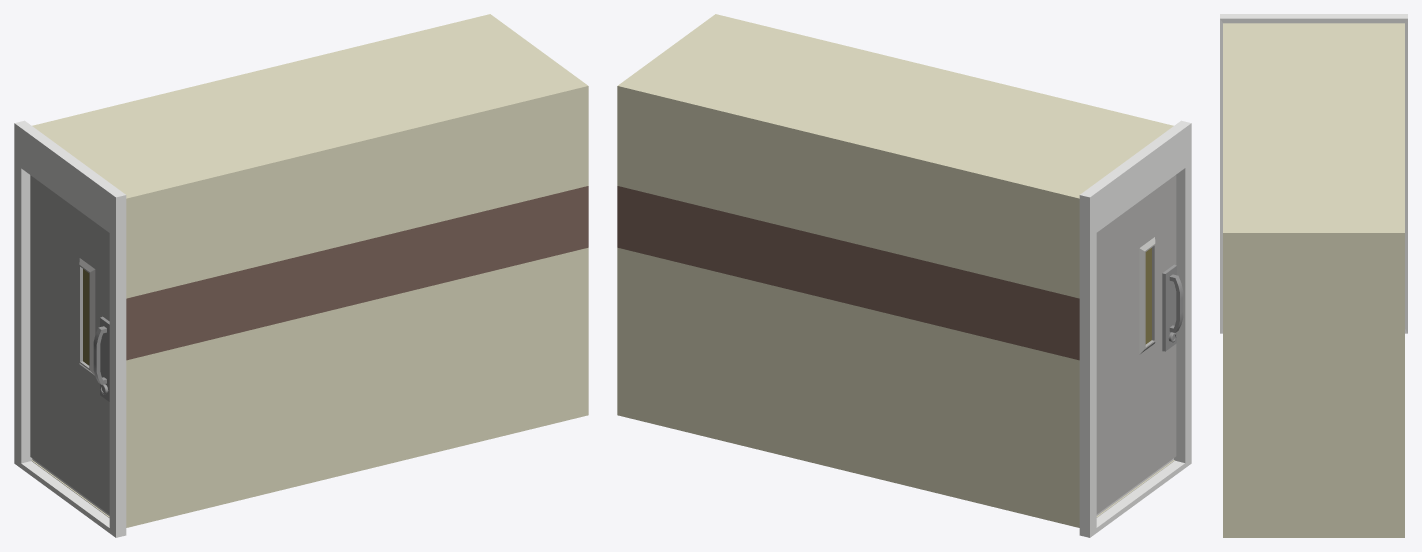
File: Staffdoor.fbx
3 views of the same model, side by side, from view 1: azimuth 30°, elevation 25°; view 2: azimuth 150°, elevation 25°; view 3: azimuth 270°, elevation 25° (orthographic). The views are drawn at different scales.
Visible parts, largest first — view 1: pasted__BlackRoom, Door1; view 2: pasted__BlackRoom, Door1; view 3: pasted__BlackRoom.
Part boxes in pixels (x1,y1,x2,y2): pasted__BlackRoom: (14,14,588,537); Door1: (30,175,109,514); pasted__BlackRoom: (617,14,1191,537); Door1: (1096,175,1183,514); pasted__BlackRoom: (1220,14,1407,537).
Size of the model in its own units: 507 by 344 by 186.
